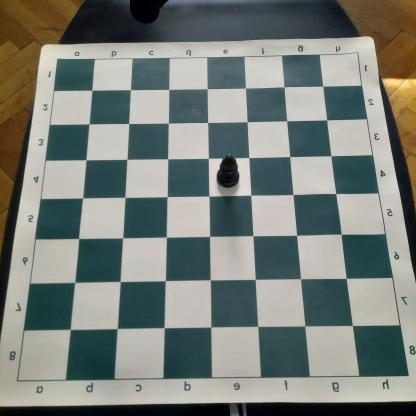black-bishop: (214, 154, 241, 188)
